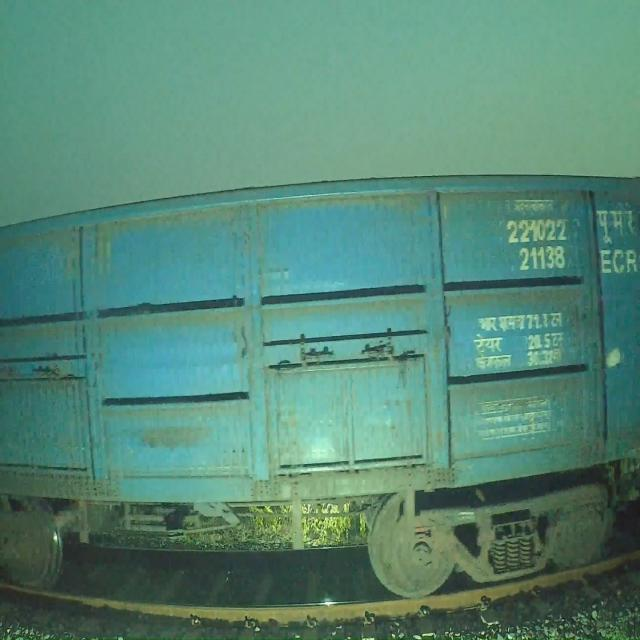WAgon-uic: (0, 165, 640, 604)
uic: (499, 212, 574, 278)
